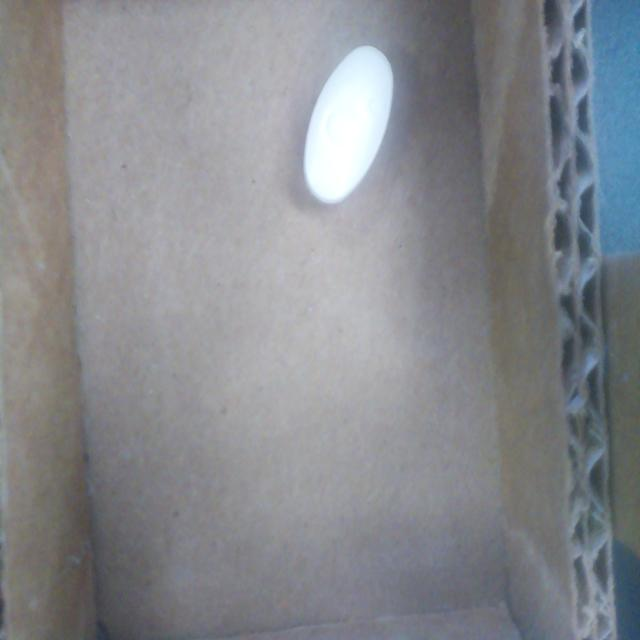pill: (303, 47, 395, 205)
